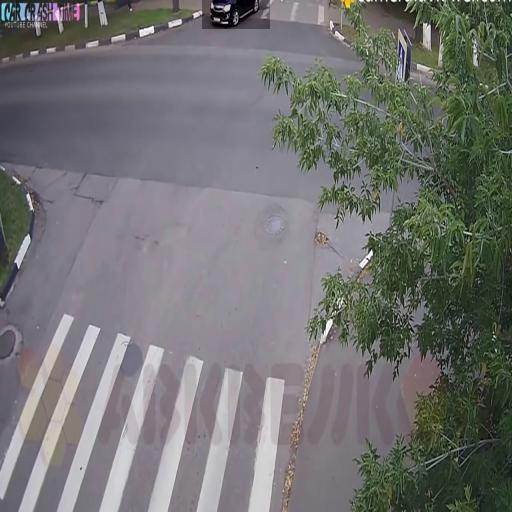小汽车: (202, 0, 270, 29)
